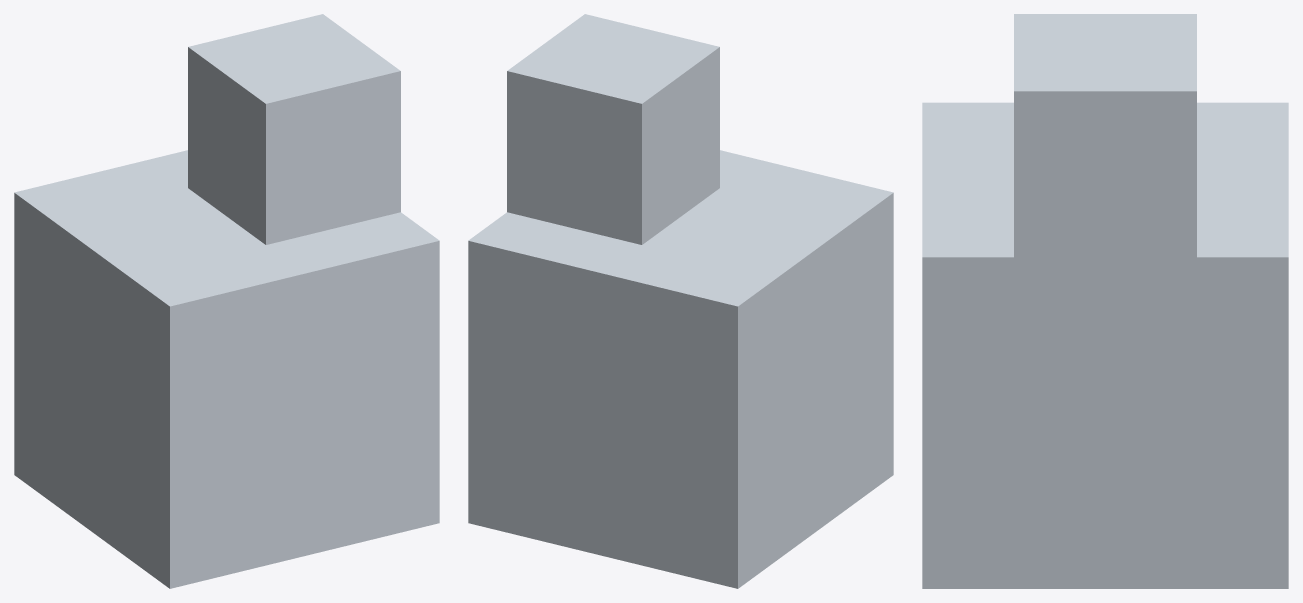
File: silver-fragment.glb
3 renders of one model, left to right at view 1: azimuth 30°, elevation 25°; view 2: azimuth 150°, elevation 25°; view 3: azimuth 270°, elevation 25°, orthographic. The views are drawn at different scales.
Visible parts, largest first — view 1: generated(Clone); view 2: generated(Clone); view 3: generated(Clone).
Boxes of the visible parts, x1,y1,x2,y2 form: generated(Clone): [14, 14, 439, 588]; generated(Clone): [468, 14, 893, 588]; generated(Clone): [922, 14, 1288, 588].
Size of the model in its own units: 2 by 3 by 2.
Materials: 1 (1 with a texture image).
